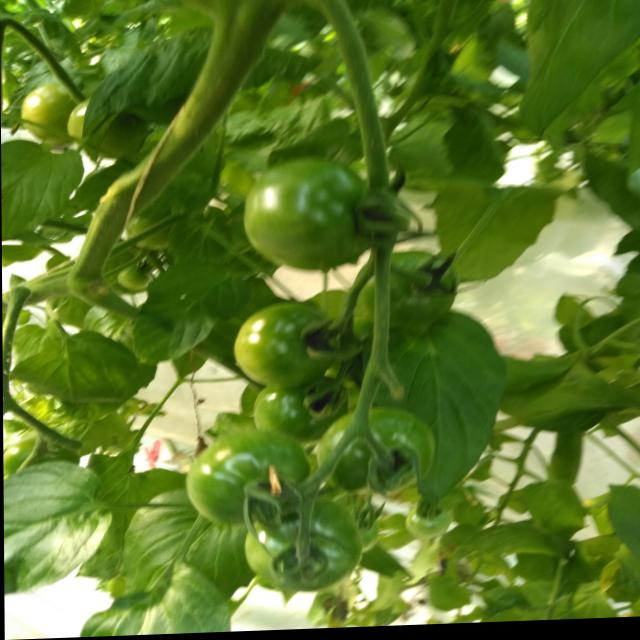yesil: (189, 294, 416, 613)
